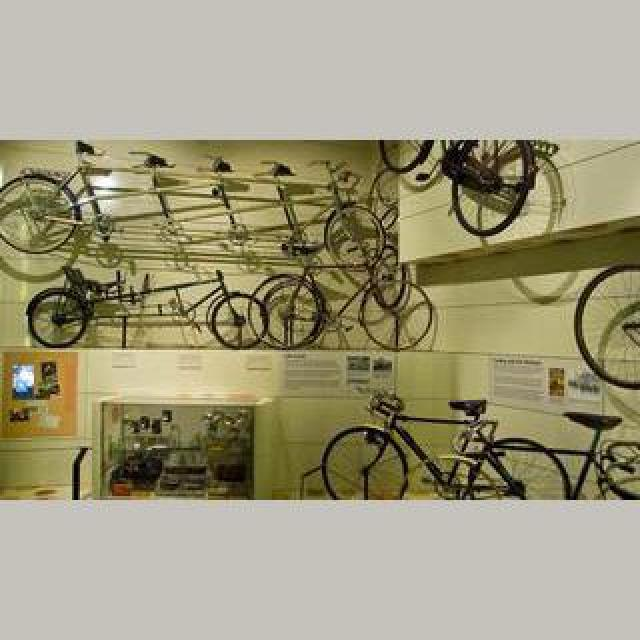Person: (4, 142, 354, 256), (320, 392, 572, 500), (24, 262, 266, 348), (252, 240, 434, 350), (460, 404, 640, 498), (380, 140, 540, 236)
